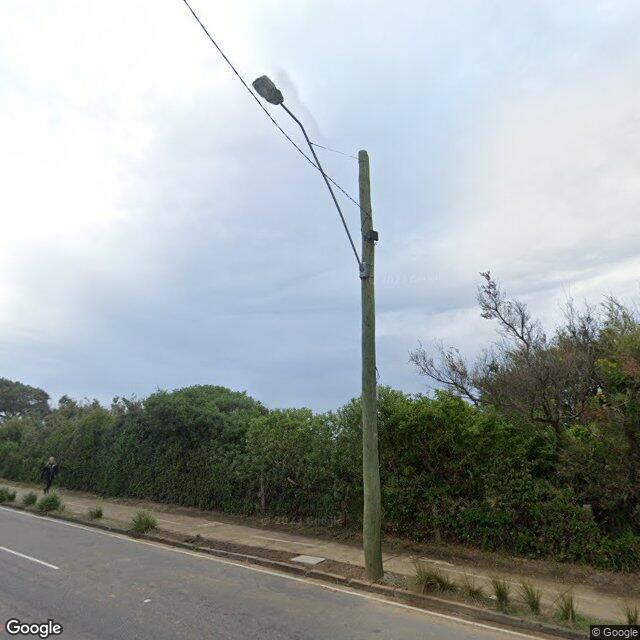streetlight: (252, 76, 366, 278)
timber-pole: (358, 150, 382, 583)
